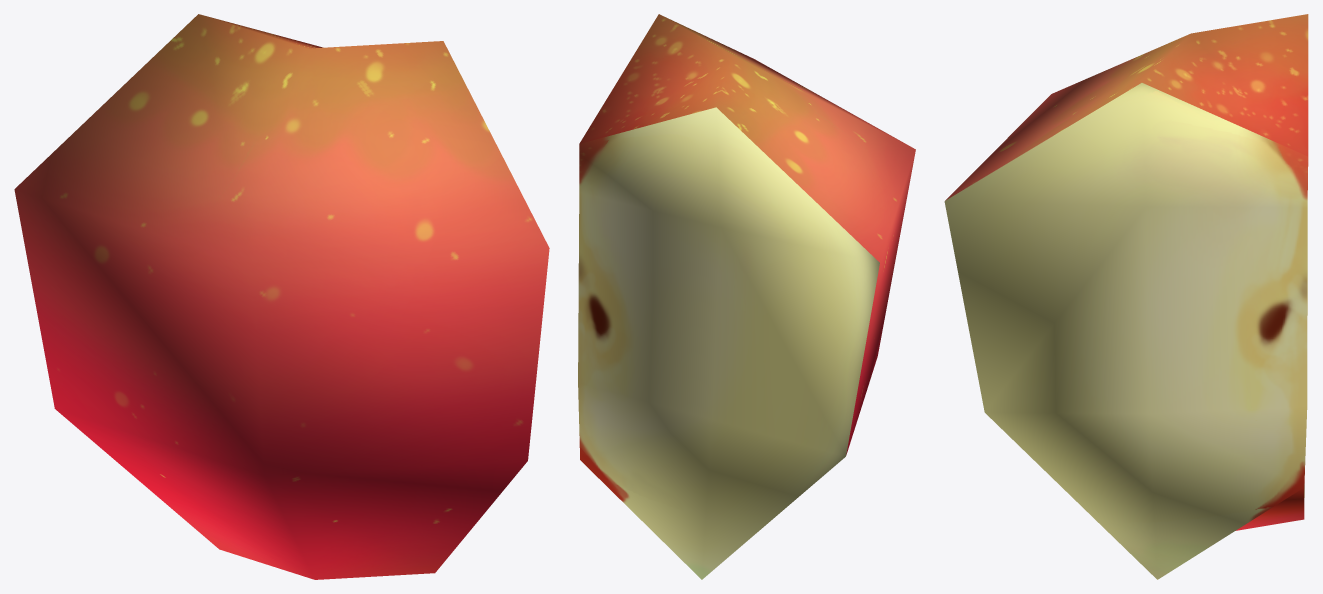
Rendered from quarter-apple.fbx.
3 renders of one model, left to right at view 1: azimuth 30°, elevation 25°; view 2: azimuth 150°, elevation 25°; view 3: azimuth 270°, elevation 25°, orthographic. The views are drawn at different scales.
Parts seen in each view (by area): view 1: quarter-apple; view 2: quarter-apple; view 3: quarter-apple.
Boxes of the visible parts, x1,y1,x2,y2 form: quarter-apple: [14, 14, 549, 579]; quarter-apple: [578, 14, 915, 579]; quarter-apple: [944, 14, 1308, 579].
Size of the model in its own units: 0.73 by 1.11 by 0.7317.
